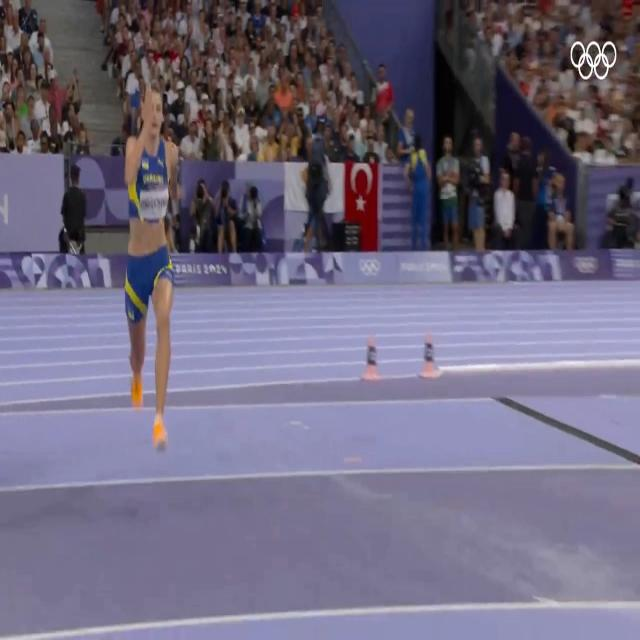run: (124, 81, 178, 448)
